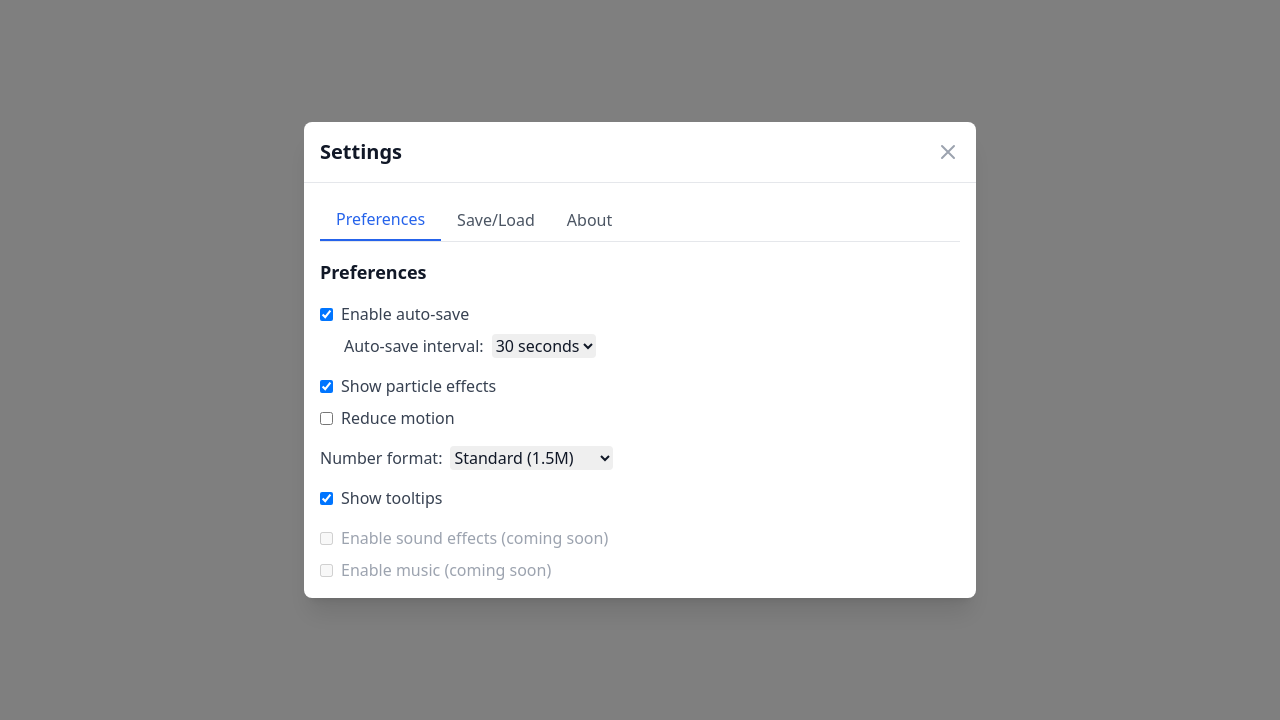
Scenario: Settings › Save/Load Tab › should show hard reset confirmation when clicked
The width and height of the screenshot is (1280, 720).
Step 1. Click the button "Save/Load" → (496, 220), box [441,199,551,241]
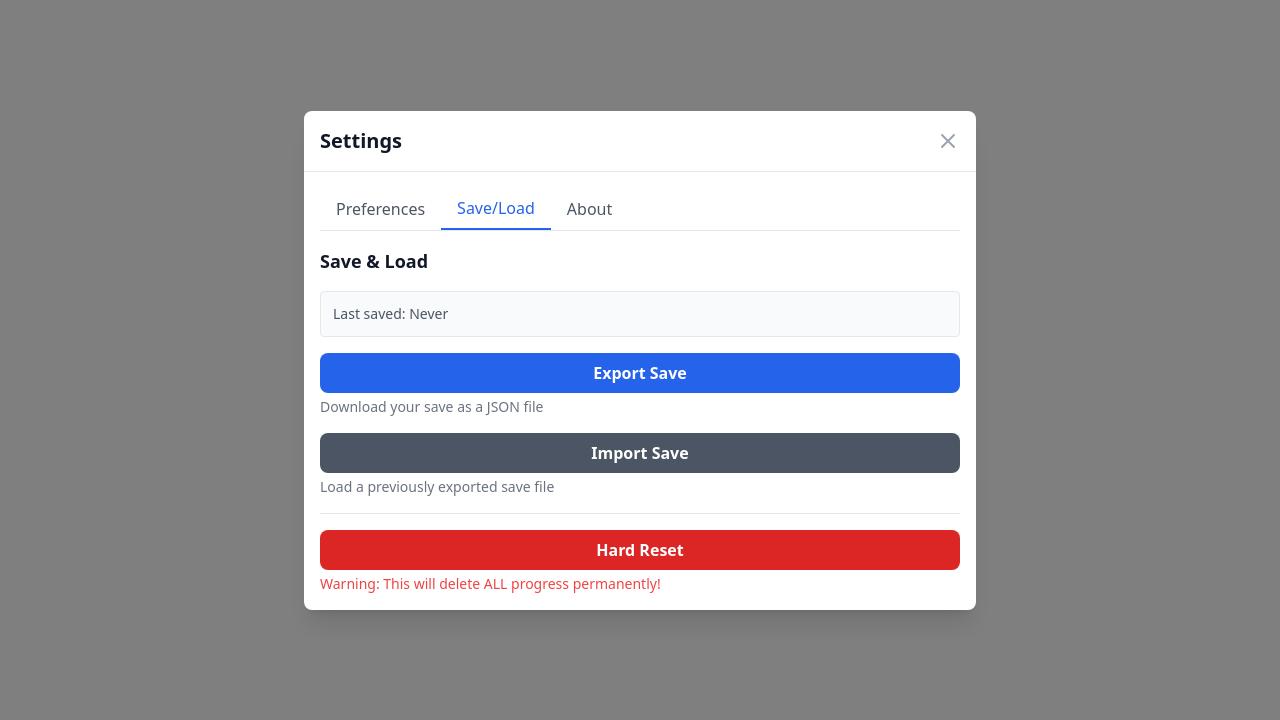
Step 2. Click the button "Hard Reset" → (640, 550), box [320,530,960,570]
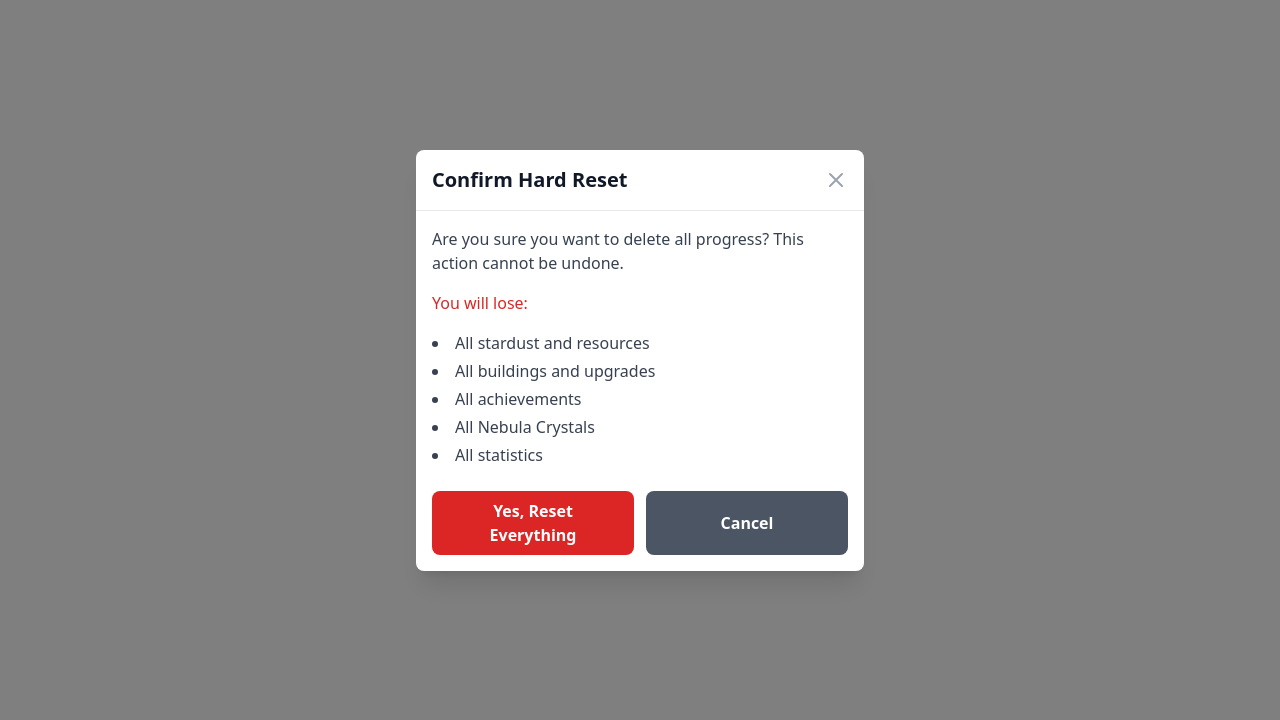
Expected: the heading "Confirm Hard Reset" is shown, [432,166,627,194]
